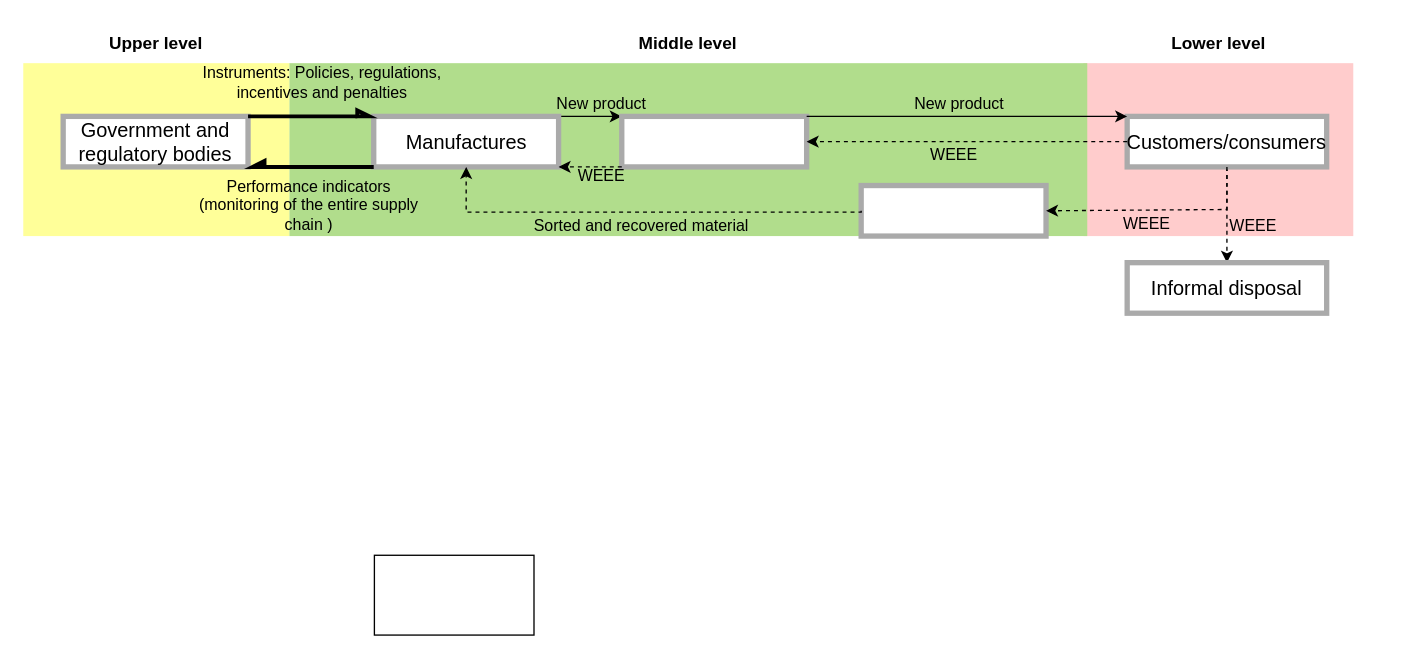
The diagram is 1415 pixels wide and 658 high, and some of its shapes have lost their labels. Here are the shapes that lost their labels. From the top down, the box of each, then its label:
(618, 113, 809, 169): Distributors/retailers
(858, 182, 1048, 238): Recyclers
